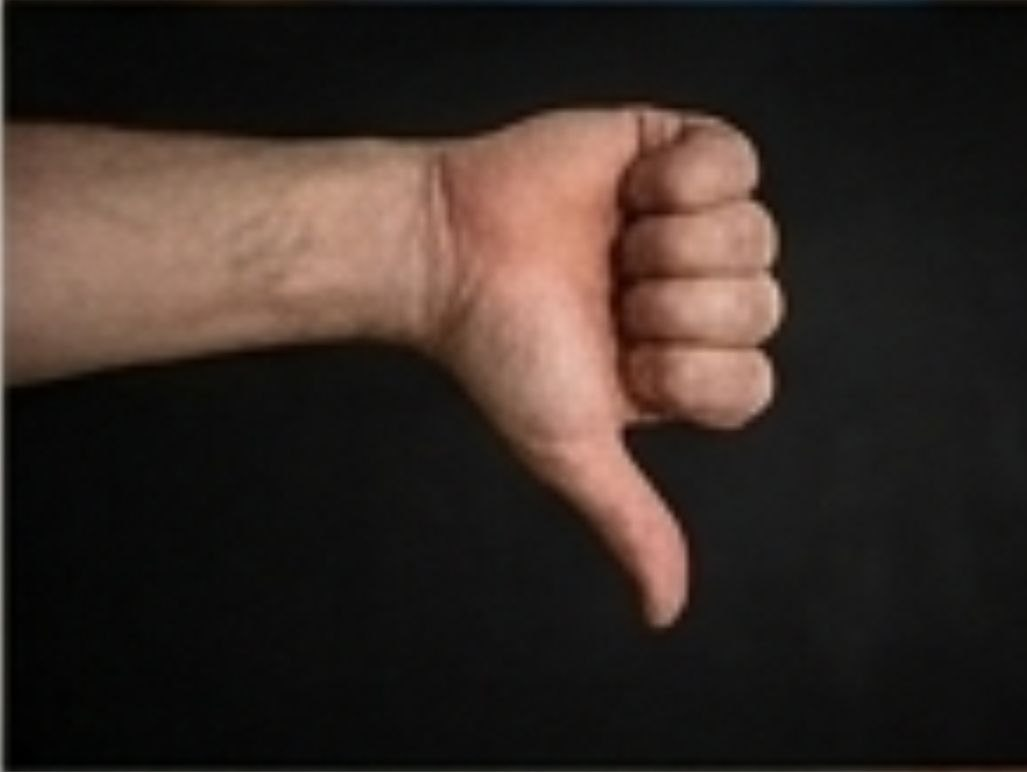Thumbs down: (391, 103, 800, 640)
